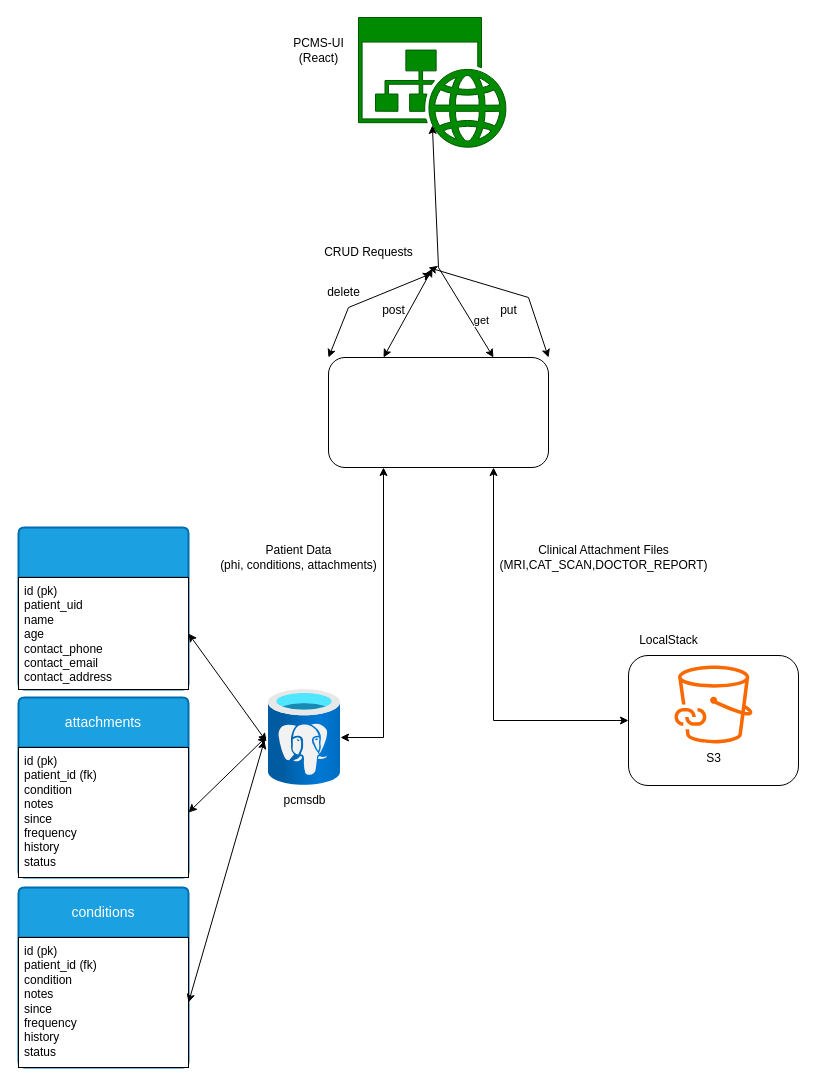
This 816x1086 diagram has some shape labels left out. Each missing label, with the box of its shape:
patients: (17, 526, 189, 690)
PCMS API (C# WebAPI) Patient Records: (328, 356, 548, 468)
